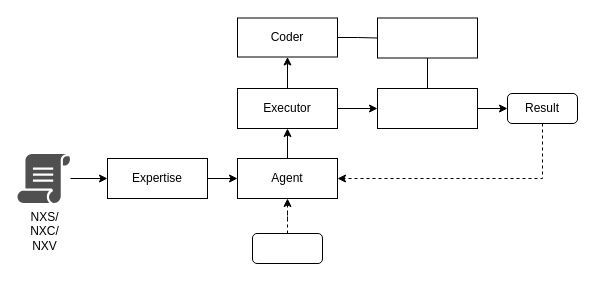
This 595x281 diagram has some shape labels left out. The shapes that lost their labels are listed below. From the top down, each one's centre as x and y in pixels, then its label:
(x=427, y=37): Toolset
(x=427, y=108): Interpreter
(x=287, y=248): Request
